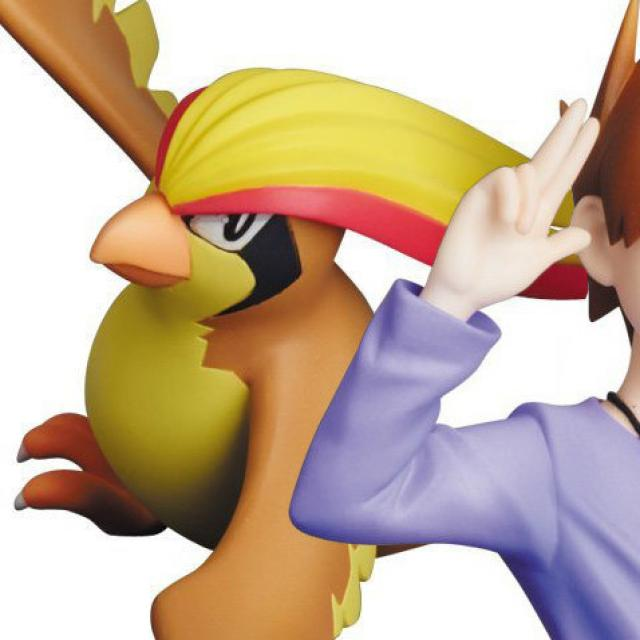Pidgeot: (69, 61, 383, 602)
